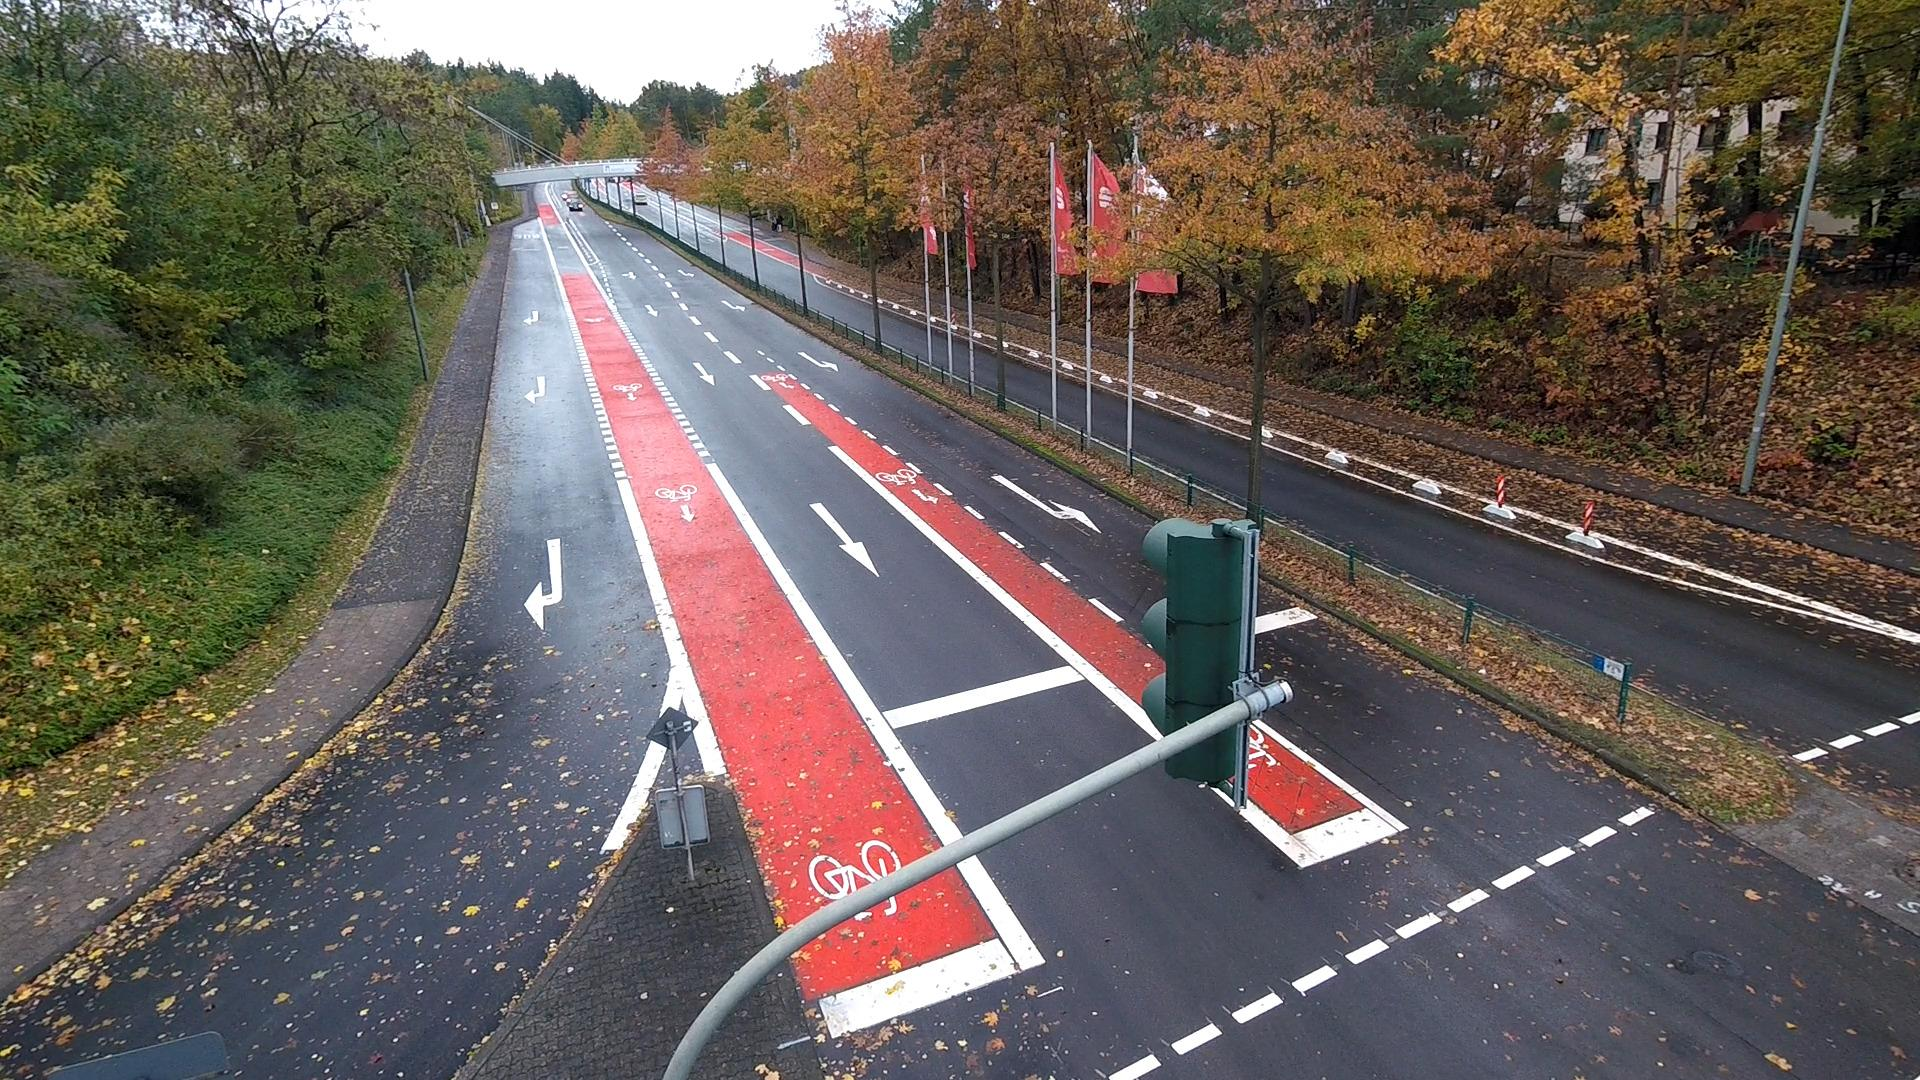bicycle-lane: (533, 182, 963, 935), (723, 352, 1167, 745), (1261, 396, 1920, 633), (787, 855, 1046, 1047), (1234, 725, 1407, 876), (1131, 357, 1254, 422), (806, 261, 874, 297), (1000, 323, 1052, 359), (876, 284, 927, 315), (754, 236, 800, 270), (1092, 348, 1130, 381), (1055, 336, 1085, 368), (723, 224, 754, 249), (1212, 791, 1236, 814), (973, 316, 996, 340), (695, 214, 720, 233), (930, 302, 948, 323), (953, 309, 972, 330), (633, 200, 659, 214), (676, 204, 695, 222), (661, 198, 676, 214), (647, 193, 658, 206), (618, 181, 630, 191), (620, 190, 632, 198)
car: (560, 187, 582, 200), (567, 199, 585, 211), (634, 190, 646, 204), (622, 195, 632, 203), (585, 186, 593, 191)
car-lane: (7, 222, 678, 1080), (815, 574, 1920, 1080), (554, 189, 1170, 844), (1261, 446, 1920, 816), (1131, 400, 1250, 510), (802, 272, 876, 343), (1004, 352, 1052, 418), (877, 303, 928, 363), (754, 253, 803, 310), (1091, 382, 1129, 452), (1056, 373, 1088, 435), (723, 236, 754, 284), (754, 225, 799, 256), (973, 342, 998, 396), (696, 223, 724, 268), (949, 332, 969, 380), (634, 199, 662, 229), (931, 326, 948, 373), (723, 214, 752, 236), (678, 215, 696, 249), (662, 210, 679, 243), (694, 206, 721, 225), (549, 181, 572, 195), (608, 182, 620, 208), (641, 183, 659, 198), (658, 190, 675, 204), (675, 199, 694, 211), (599, 186, 608, 204), (576, 187, 584, 199), (622, 204, 632, 214), (591, 189, 599, 199), (585, 191, 589, 204)
